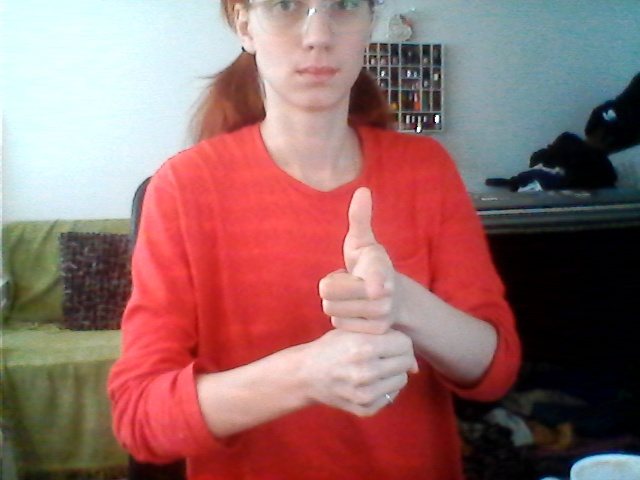kamera: (295, 183, 434, 426)
